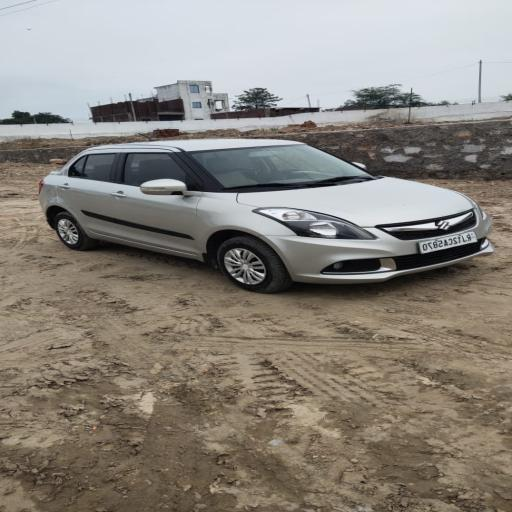License: (406, 226, 488, 254)
